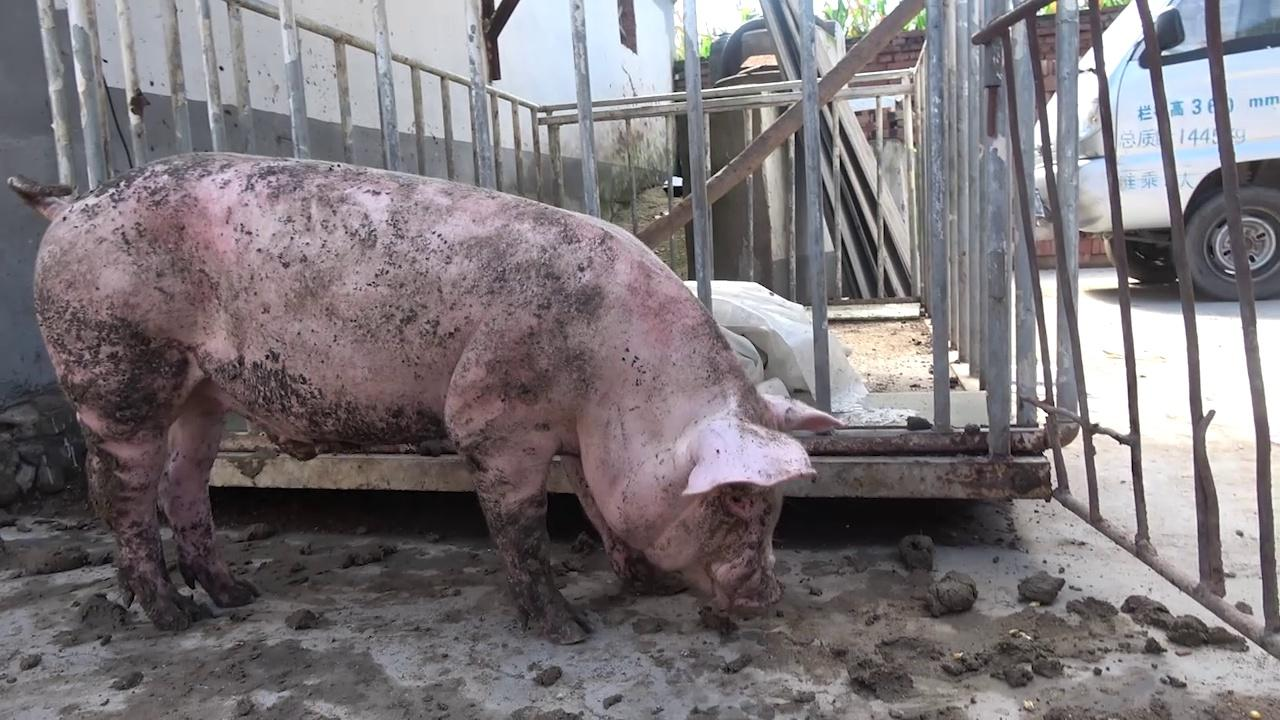Face: (630, 393, 858, 618)
